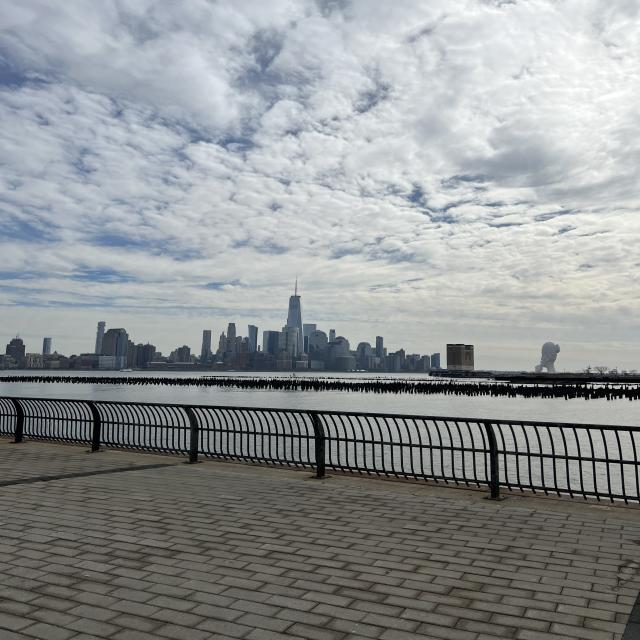WTC: (287, 277, 303, 329)
